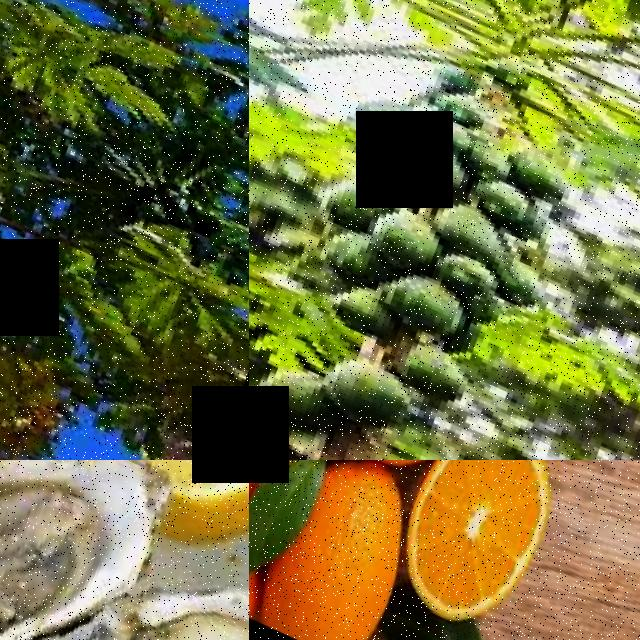lemon: (57, 460, 249, 540)
orange: (386, 460, 567, 639), (251, 460, 430, 640)
oysters: (0, 460, 175, 640), (70, 523, 249, 640)
pawpaw: (318, 339, 416, 437), (249, 355, 339, 438), (380, 260, 464, 341), (392, 332, 474, 402)
